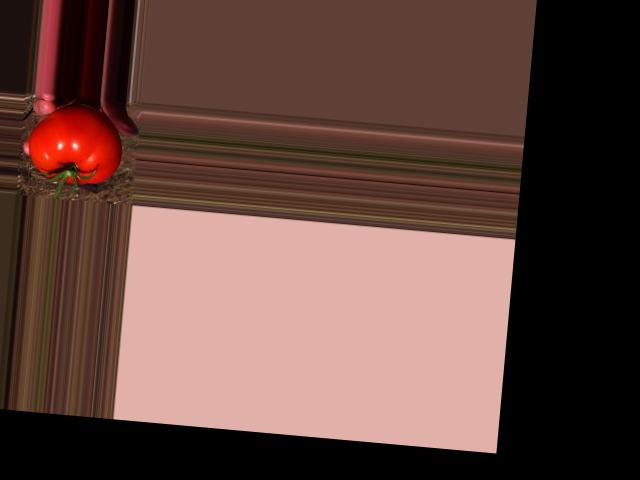tomato: (25, 100, 125, 187)
